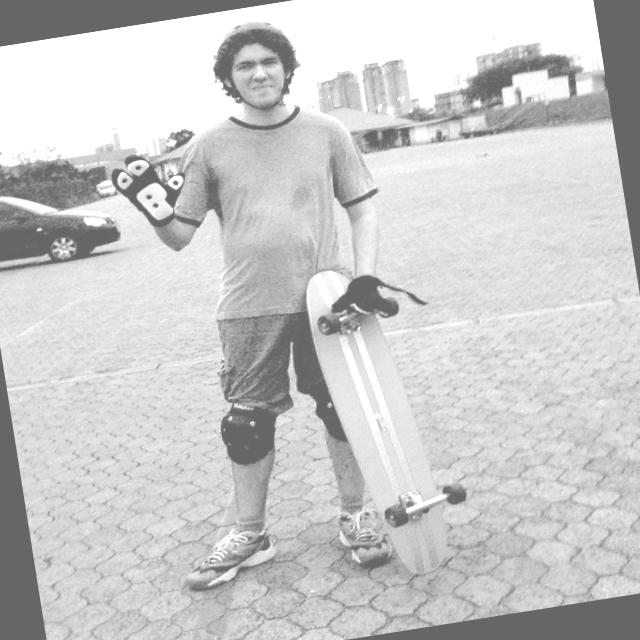Vehicle: (0, 176, 128, 276), (98, 182, 116, 197)
